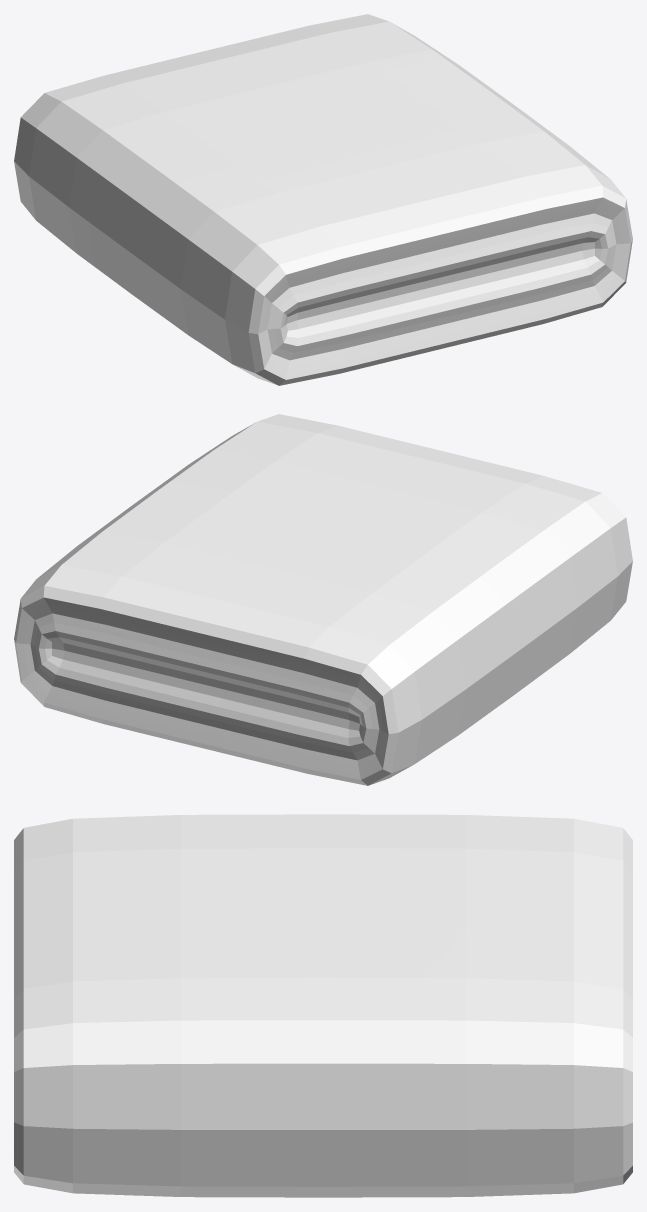
Rendered from Towel_05.fbx.
The picture shows the model from 3 angles, top to bottom: view 1: azimuth 30°, elevation 25°; view 2: azimuth 150°, elevation 25°; view 3: azimuth 270°, elevation 25°; orthographic projection. The views are drawn at different scales.
Parts seen in each view (by area): view 1: Towel_05; view 2: Towel_05; view 3: Towel_05.
Part boxes in pixels (x1=…): Towel_05: x1=14, y1=14, x2=632, y2=385; Towel_05: x1=14, y1=414, x2=632, y2=785; Towel_05: x1=14, y1=814, x2=632, y2=1197.
Bounding box in the file's own units: 22.53 × 7.88 × 23.8.
